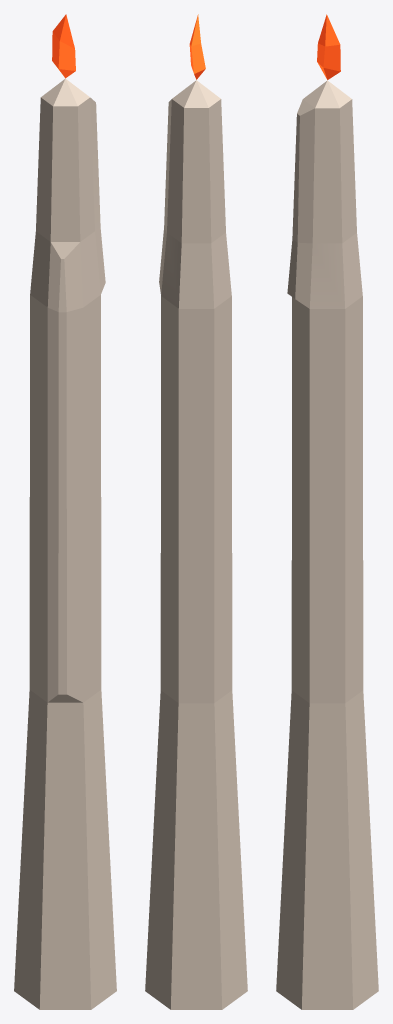
File: fantasy_candle-big.fbx
3 views of the same model, side by side, from view 1: azimuth 90°, elevation 25°; view 2: azimuth 210°, elevation 25°; view 3: azimuth 270°, elevation 25° (orthographic).
Visible parts, largest first — view 1: fantasy_candle_big; view 2: fantasy_candle_big; view 3: fantasy_candle_big.
Boxes of the visible parts, bbox=[...] form: fantasy_candle_big: bbox=[14, 14, 116, 1009]; fantasy_candle_big: bbox=[145, 14, 247, 1009]; fantasy_candle_big: bbox=[276, 14, 378, 1009].
Bounding box in the file's own units: 16.52 × 200 × 19.07.
